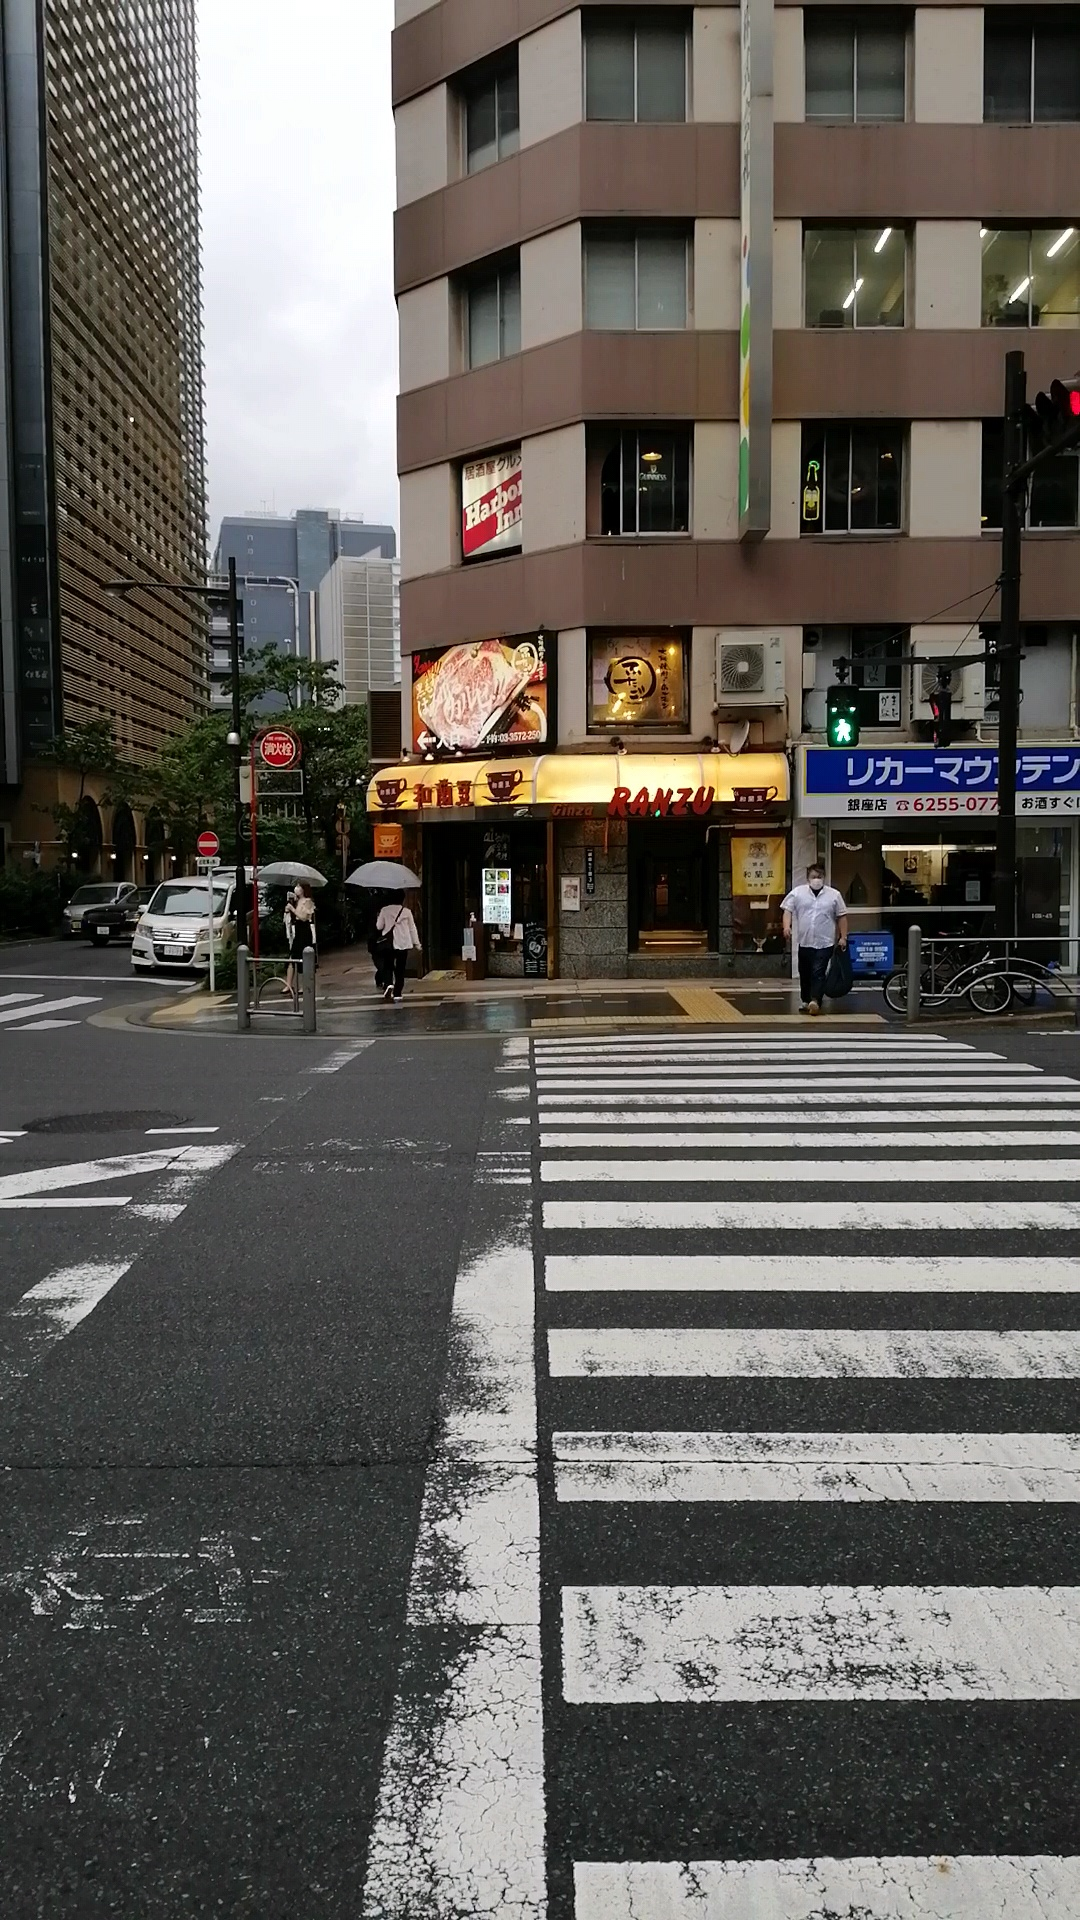green: (825, 683, 860, 749)
